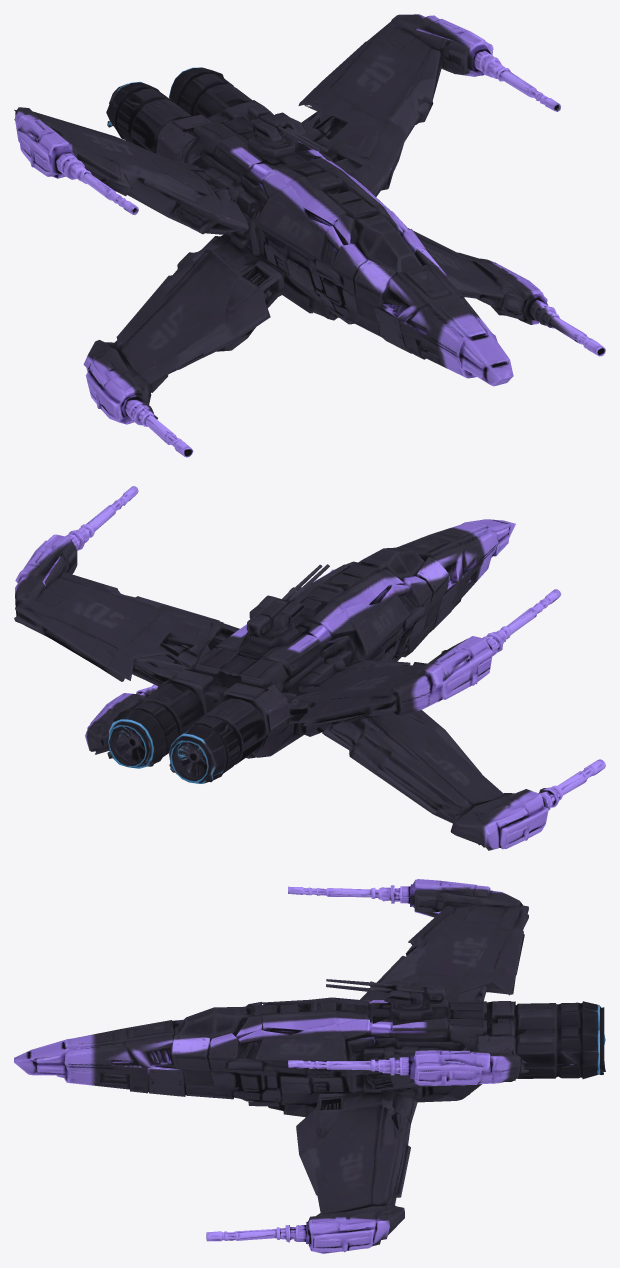
File: eris-schiff7.glb
3 renders of one model, top to bottom at view 1: azimuth 30°, elevation 25°; view 2: azimuth 150°, elevation 25°; view 3: azimuth 270°, elevation 25°, orthographic. The views are drawn at different scales.
Parts seen in each view (by area): view 1: Hull_LOD0; view 2: Hull_LOD0; view 3: Hull_LOD0.
Part boxes in pixels (x1=…): Hull_LOD0: x1=14, y1=14, x2=605, y2=457; Hull_LOD0: x1=14, y1=486, x2=605, y2=850; Hull_LOD0: x1=14, y1=879, x2=605, y2=1253.
Bounding box in the file's own units: 70.94 × 36.11 × 96.22.
Materials: 1 (1 with a texture image).
